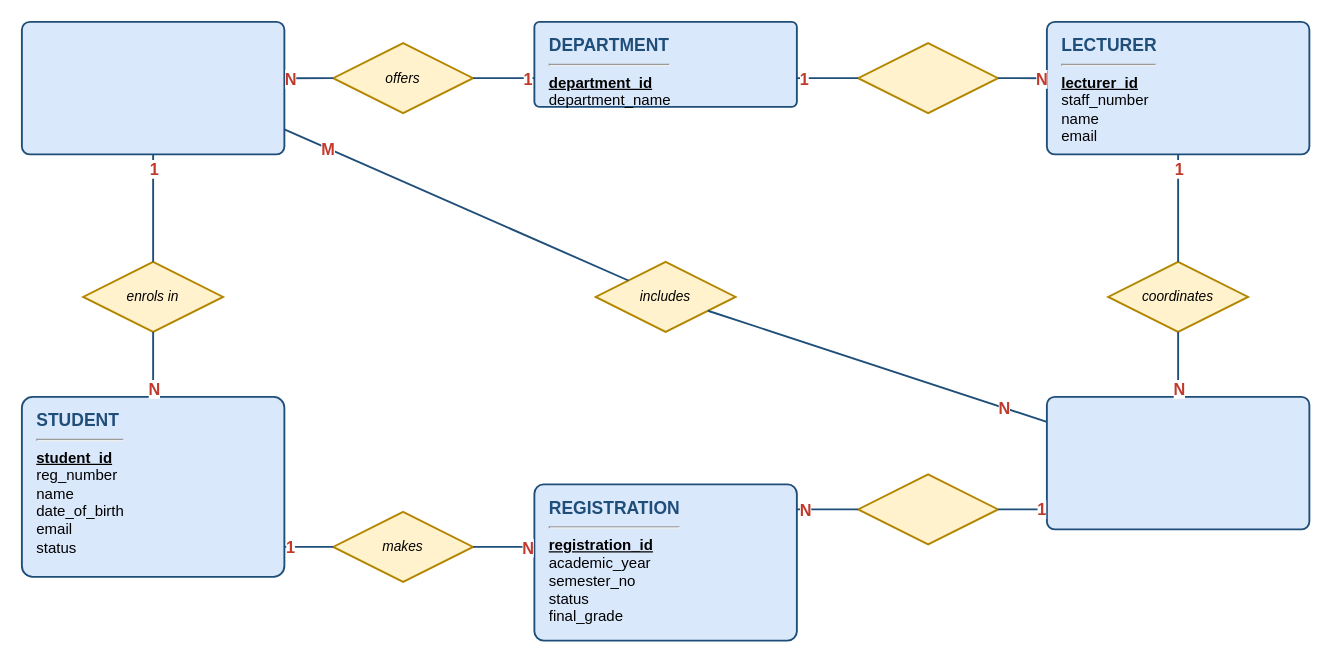
Some shapes in this 1333 by 664 pixel diagram are drawn without their labels. The shapes that lost their labels are listed below. From the top down, each one's centre as x and y in pixels, then its label:
At point (152, 87): "PROGRAMME programme_id programme_name award_level duration_years".
At point (927, 78): "employs".
At point (1177, 462): "COURSE course_id course_code course_title credit_units".
At point (927, 509): "is for".
